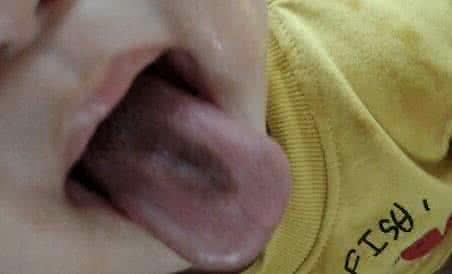heitaishe: (94, 101, 294, 272)
